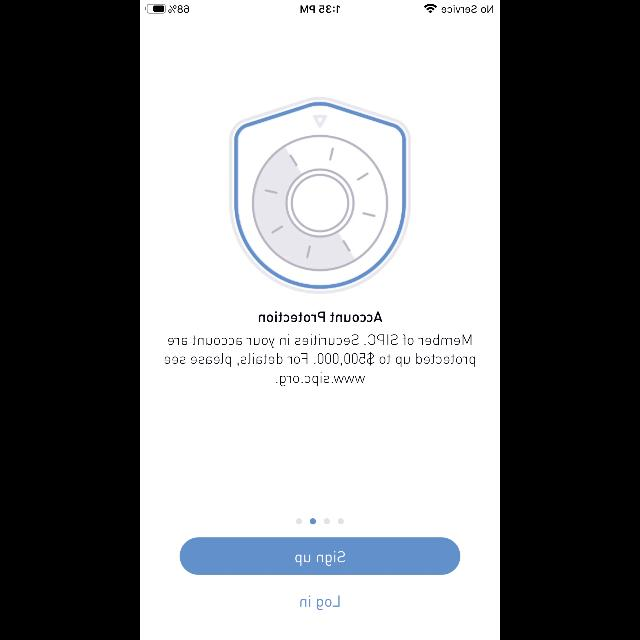image: (230, 96, 410, 294)
pageindicator: (296, 518, 344, 524)
text: (164, 334, 476, 386), (259, 312, 383, 322), (300, 596, 340, 610)
textbutton: (180, 538, 460, 574)
uppertaskbar: (140, 0, 500, 14)
